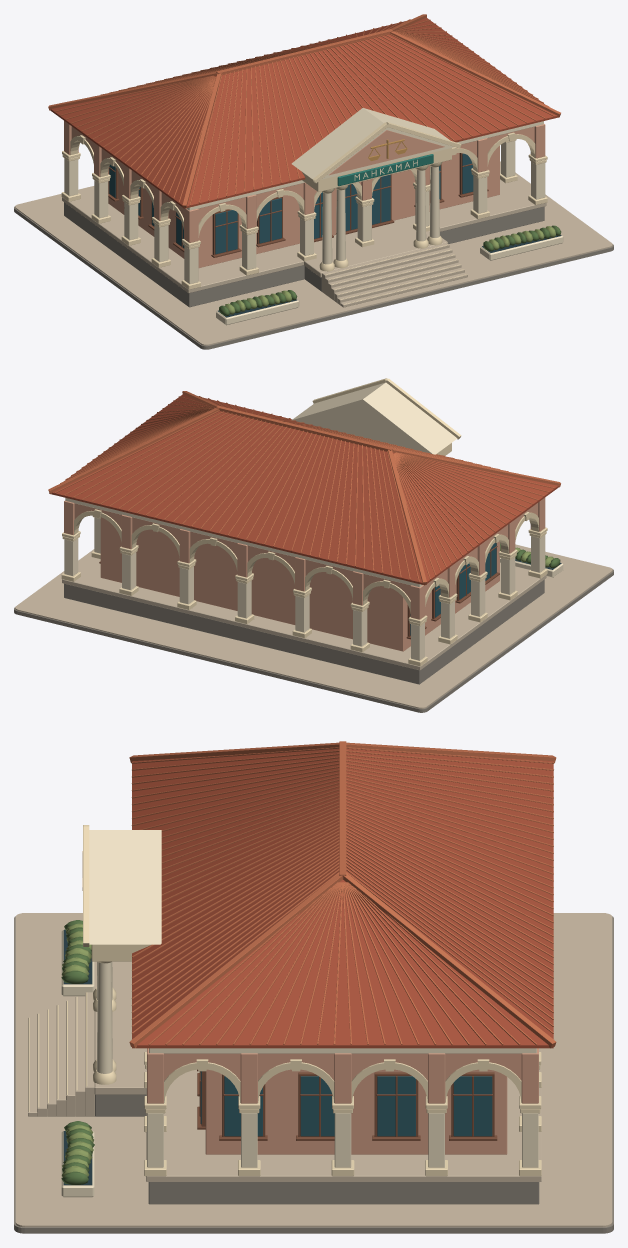
The picture shows the model from 3 angles, top to bottom: view 1: azimuth 30°, elevation 25°; view 2: azimuth 150°, elevation 25°; view 3: azimuth 270°, elevation 25°; orthographic projection. The views are drawn at different scales.
Parts seen in each view (by area): view 1: Clay Hipped Roof, Judicial Chambers, Court Square, Court Portico, Limewashed Arcade; view 2: Clay Hipped Roof, Judicial Chambers, Court Square, Limewashed Arcade, Court Portico; view 3: Clay Hipped Roof, Court Square, Judicial Chambers, Court Portico, Limewashed Arcade.
Part boxes in pixels (box(x1,y1,x2,y2)): Clay Hipped Roof: box(48, 14, 560, 208); Judicial Chambers: box(62, 121, 546, 307); Court Square: box(14, 161, 613, 349); Court Portico: box(291, 108, 467, 307); Limewashed Arcade: box(61, 121, 547, 289); Clay Hipped Roof: box(48, 391, 560, 585); Judicial Chambers: box(62, 498, 546, 684); Court Square: box(14, 544, 613, 712); Limewashed Arcade: box(61, 497, 547, 666); Court Portico: box(292, 378, 461, 455); Clay Hipped Roof: box(129, 741, 556, 1048); Court Square: box(14, 913, 613, 1233); Judicial Chambers: box(146, 1048, 541, 1204); Court Portico: box(28, 825, 161, 1116); Limewashed Arcade: box(144, 1048, 541, 1176).
Bounding box in the file's own units: 28 × 11.17 × 22.6.
